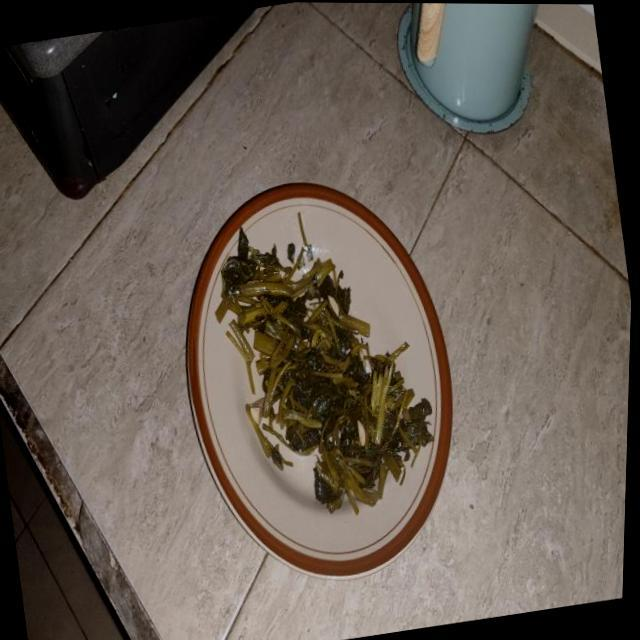tumis_kangkung: (216, 234, 433, 515)
